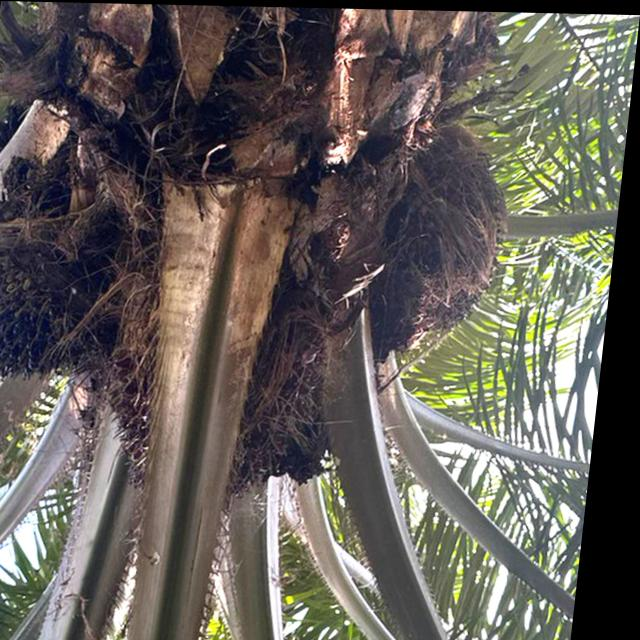ripe: (114, 244, 347, 490), (393, 118, 504, 343), (0, 216, 138, 394)
